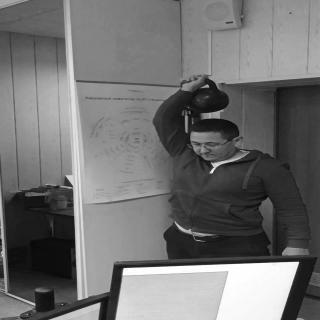kettlebell: (182, 77, 231, 115)
